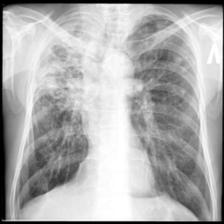tuberculosis: (10, 9, 216, 222)
